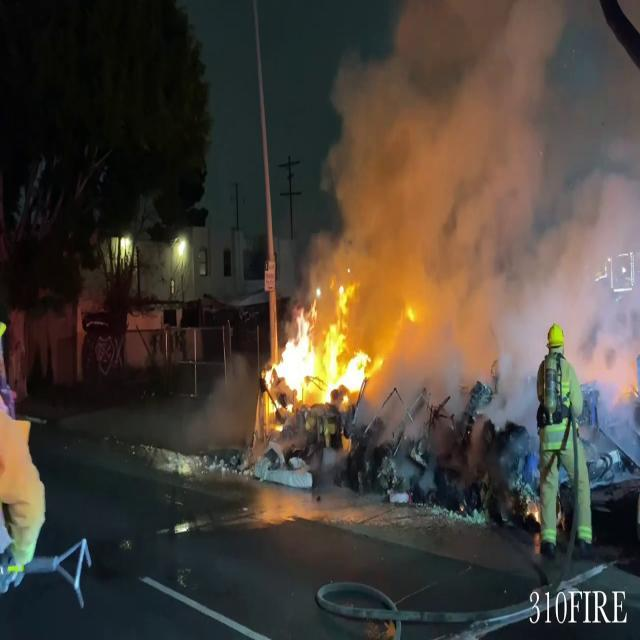Fire: (262, 276, 379, 418)
Smoke: (304, 0, 640, 380)
